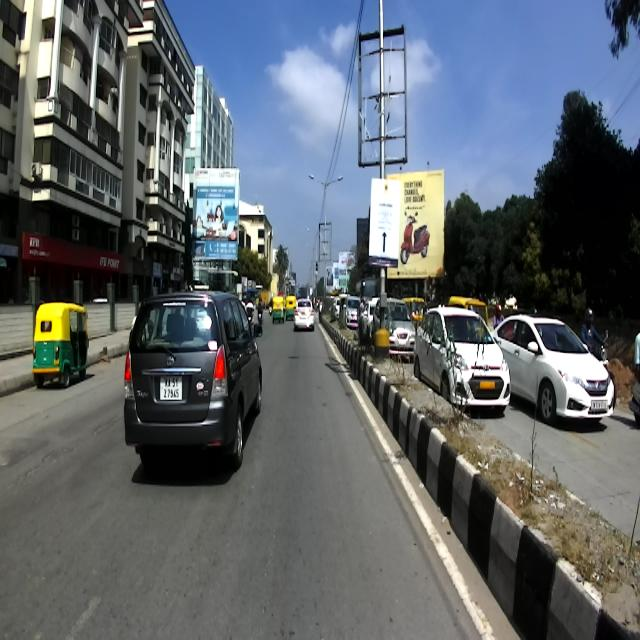auto ahead at: (31, 299, 88, 409)
car ahead at: (128, 285, 268, 477)
